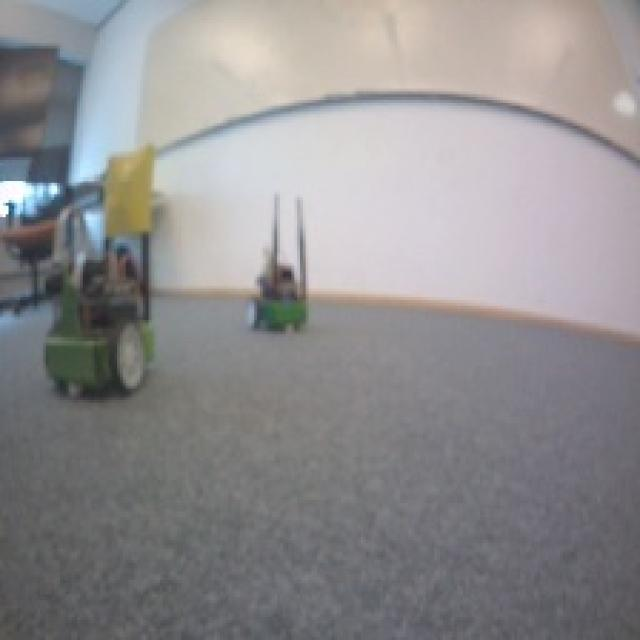robot: (39, 256, 162, 398), (243, 258, 310, 335)
